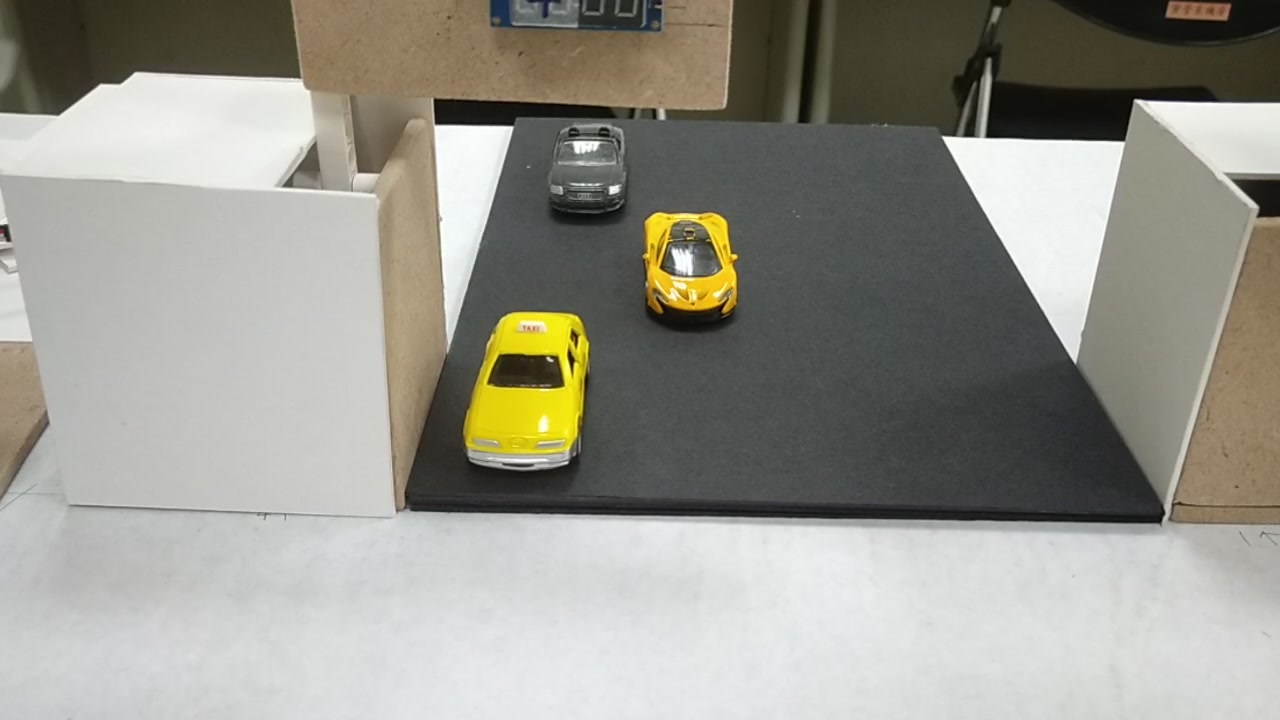car: (466, 314, 591, 466), (642, 206, 742, 325), (551, 123, 628, 215)
